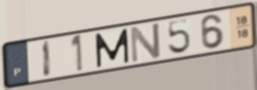1: (69, 32, 85, 74)
5: (165, 17, 193, 56)
6: (199, 13, 226, 51)
I: (41, 39, 53, 79)
M: (93, 27, 131, 70)
N: (129, 21, 163, 65)
